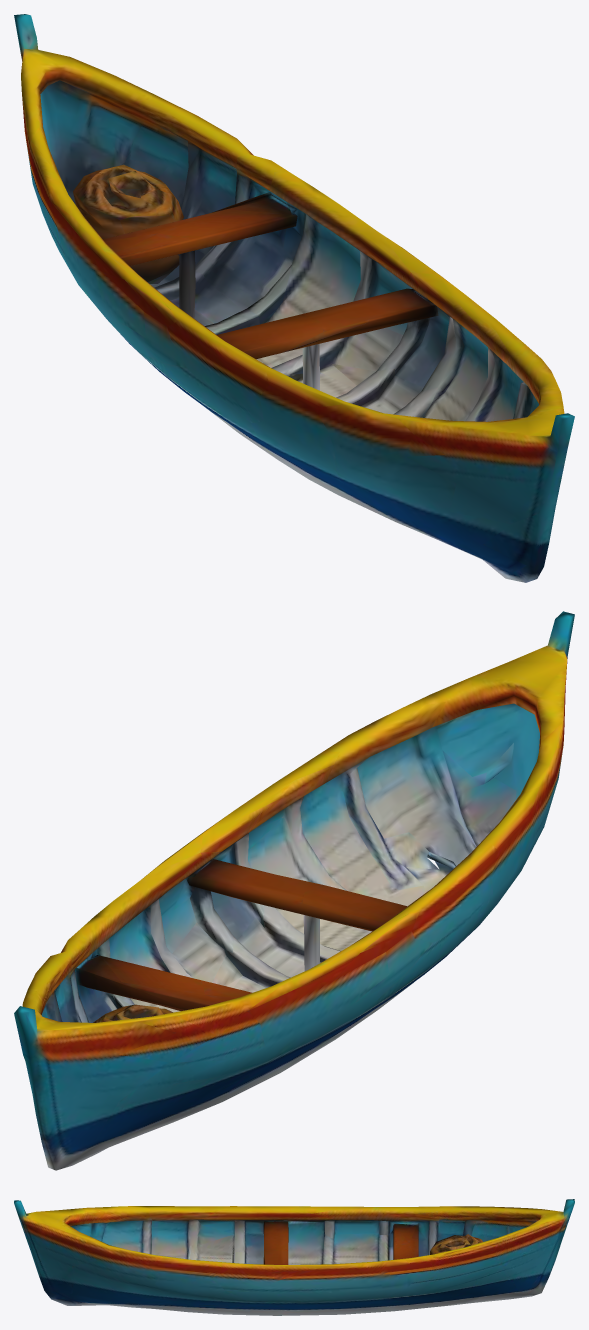
File: pirogue.glb
3 views of the same model, one above another, from view 1: azimuth 30°, elevation 25°; view 2: azimuth 150°, elevation 25°; view 3: azimuth 270°, elevation 25° (orthographic). The views are drawn at different scales.
Parts seen in each view (by area): view 1: tripo_node_eec51963-7883-4c83-9cbb-84c191f15488; view 2: tripo_node_eec51963-7883-4c83-9cbb-84c191f15488; view 3: tripo_node_eec51963-7883-4c83-9cbb-84c191f15488.
Boxes of the visible parts, box(x1,y1,x2,y2) form: tripo_node_eec51963-7883-4c83-9cbb-84c191f15488: box(14, 14, 574, 582); tripo_node_eec51963-7883-4c83-9cbb-84c191f15488: box(14, 611, 574, 1170); tripo_node_eec51963-7883-4c83-9cbb-84c191f15488: box(14, 1199, 574, 1315).
Bounding box in the file's own units: 0.2571 × 0.2171 × 0.9996.
Materials: 1 (1 with a texture image).
